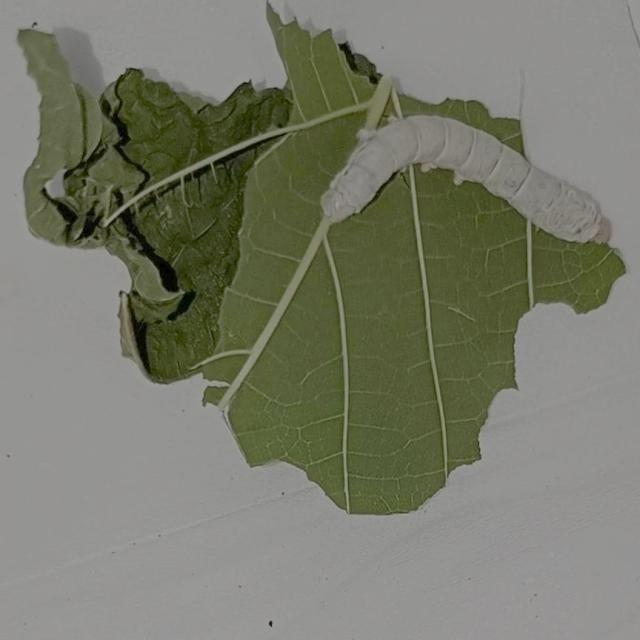Healthy: (307, 89, 617, 265)
